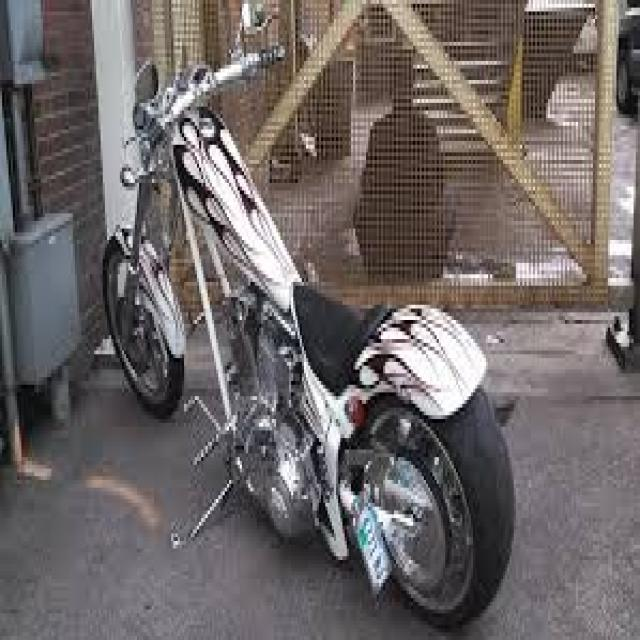MOTORCYCLE: (108, 80, 514, 630)
